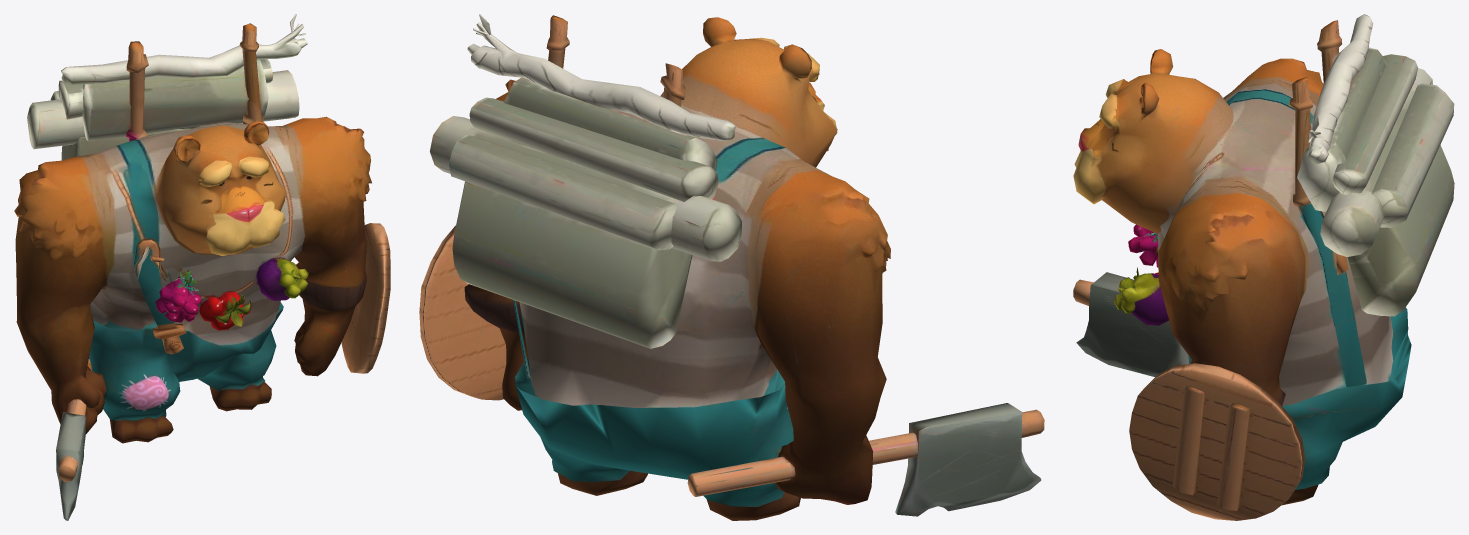
The model's file is bear-dad.glb.
3 views of the same model, side by side, from view 1: azimuth 30°, elevation 25°; view 2: azimuth 150°, elevation 25°; view 3: azimuth 270°, elevation 25° (orthographic). The views are drawn at different scales.
Parts seen in each view (by area): view 1: Mesh_0.019; view 2: Mesh_0.019; view 3: Mesh_0.019.
Part boxes in pixels (left/top/right/bottom): Mesh_0.019: left=14, top=14, right=390, bottom=520; Mesh_0.019: left=419, top=14, right=1044, bottom=520; Mesh_0.019: left=1073, top=14, right=1454, bottom=520.
Size of the model in its own units: 1.43 by 1.28 by 1.01.
Materials: 1 (1 with a texture image).
